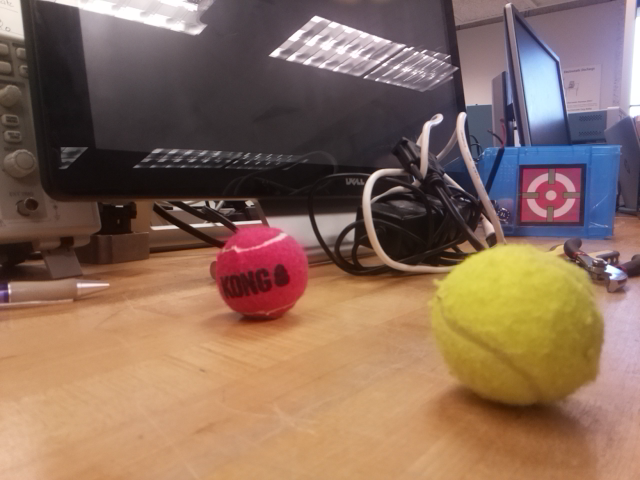drop-bin: (516, 162, 587, 226)
red-ball: (213, 225, 310, 321)
yellow-ball: (428, 240, 606, 409)
